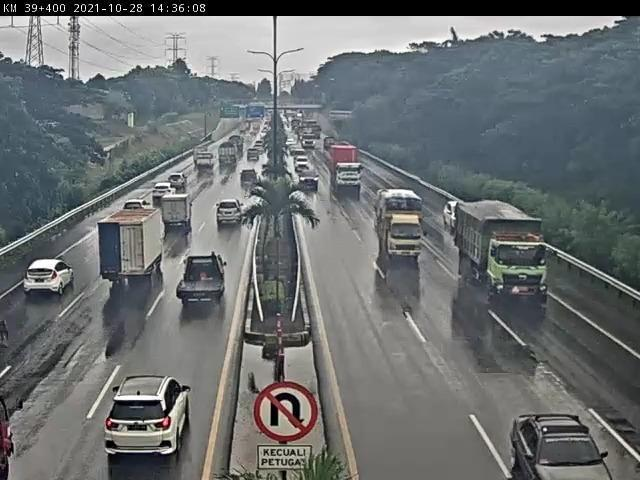car: (97, 372, 198, 466), (513, 417, 605, 479), (175, 247, 232, 305), (22, 253, 78, 301), (298, 171, 324, 197), (219, 203, 245, 227), (243, 165, 260, 187), (157, 185, 179, 198), (295, 158, 316, 170), (171, 173, 188, 186), (126, 201, 146, 211)
truck: (452, 202, 555, 314), (94, 210, 172, 285), (377, 194, 425, 266), (326, 149, 369, 191), (162, 198, 194, 225)
